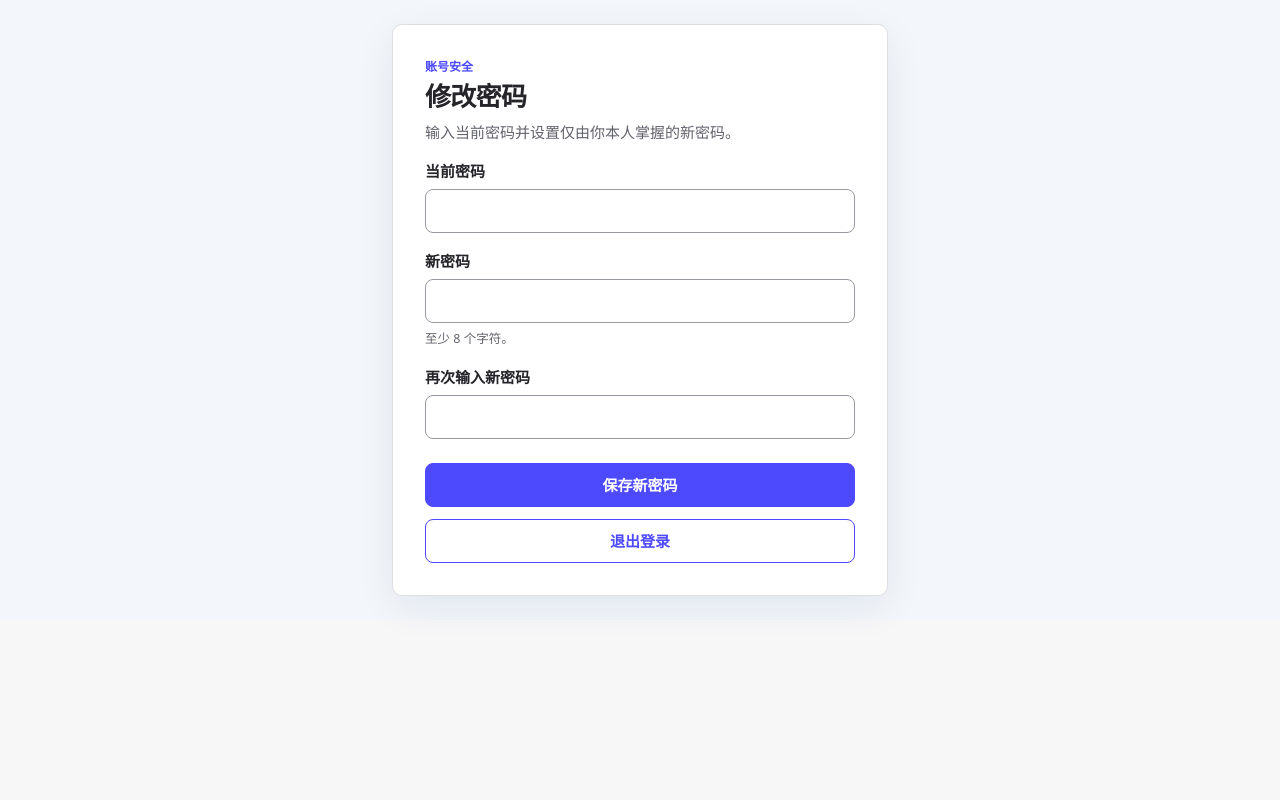
PasswordChangePage › keeps logout available on the required password-change screen
Click the button "退出登录" at (640, 541), box [425, 519, 855, 563]
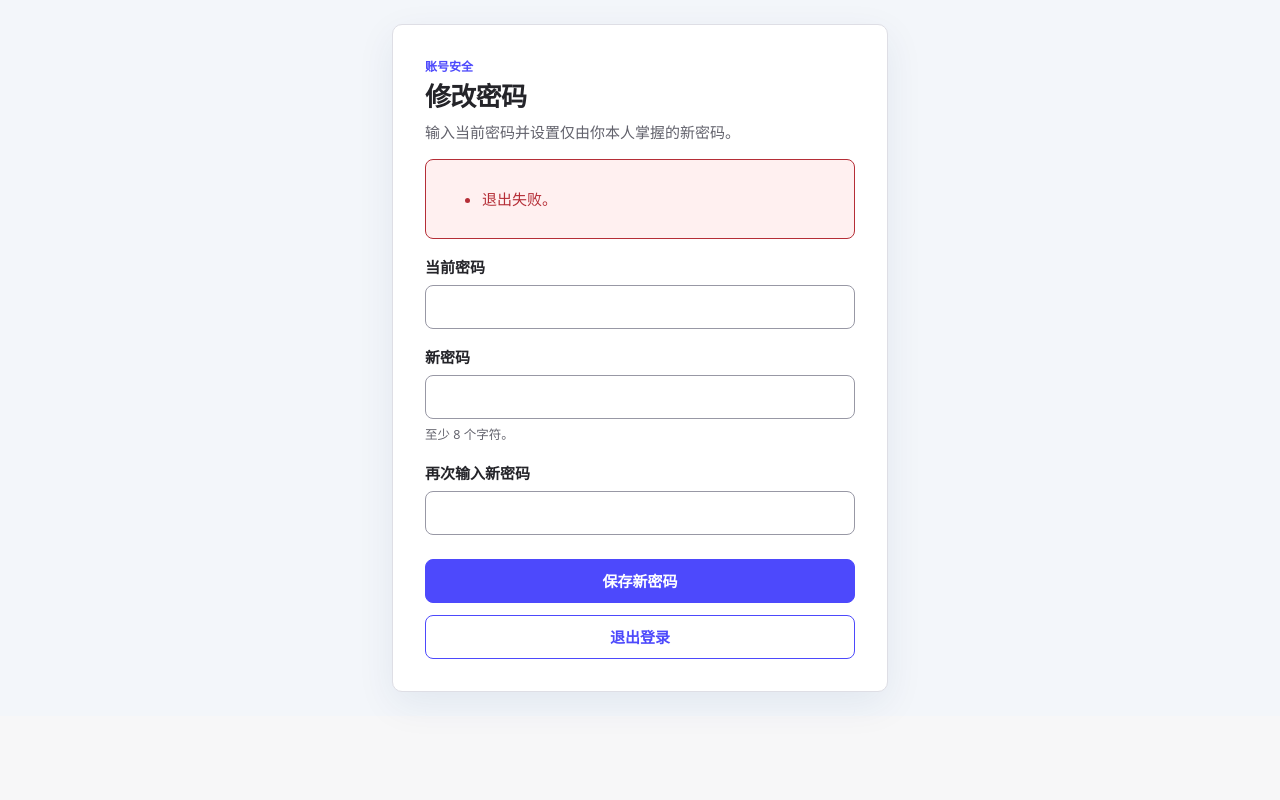
Check: the message "退出失败。" is shown, box [425, 159, 855, 239]
